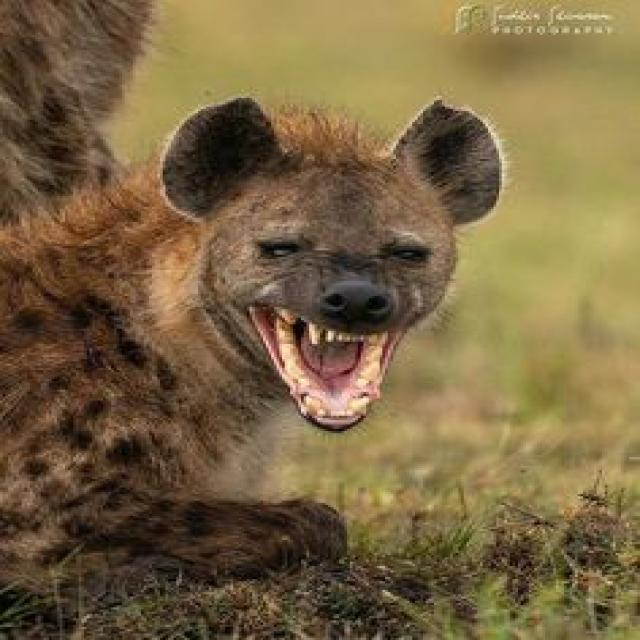Carnivorous: (0, 96, 510, 590)
